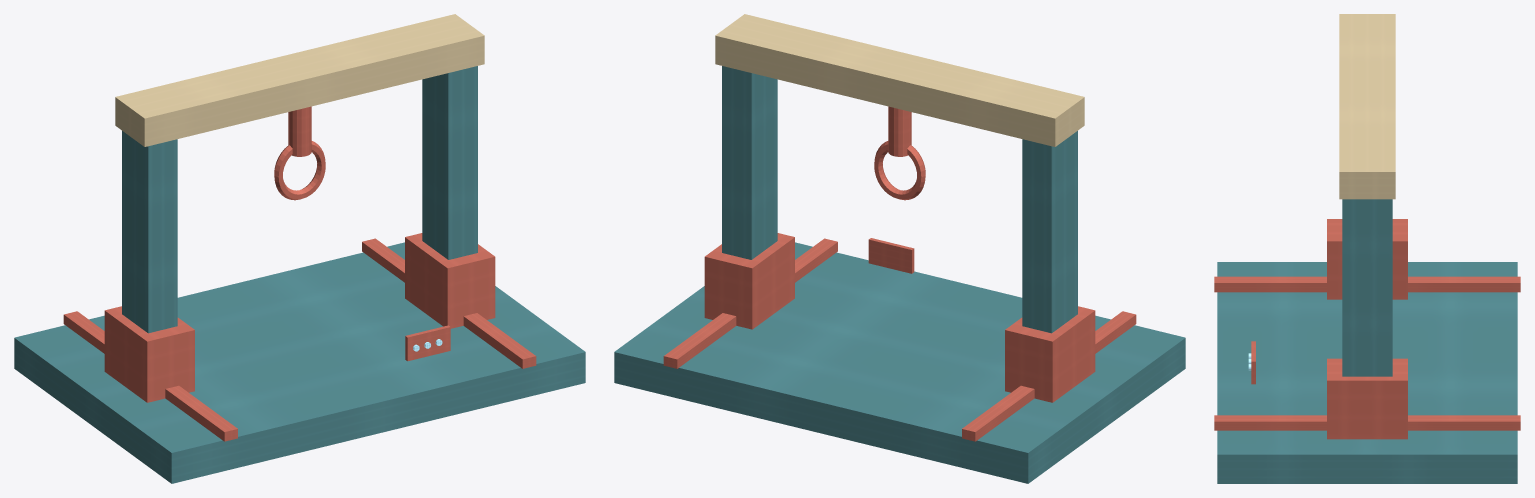
The model's file is atlas100-s072-a02.glb.
3 views of the same model, side by side, from view 1: azimuth 30°, elevation 25°; view 2: azimuth 150°, elevation 25°; view 3: azimuth 270°, elevation 25° (orthographic). The views are drawn at different scales.
Parts seen in each view (by area): view 1: atlas100-s072-a02:part-000, atlas100-s072-a02:part-007, atlas100-s072-a02:part-003, atlas100-s072-a02:part-005, atlas100-s072-a02:part-004, atlas100-s072-a02:part-006, atlas100-s072-a02:part-002, atlas100-s072-a02:part-001, atlas100-s072-a02:part-009, atlas100-s072-a02:part-010, atlas100-s072-a02:part-008; view 2: atlas100-s072-a02:part-000, atlas100-s072-a02:part-007, atlas100-s072-a02:part-003, atlas100-s072-a02:part-005, atlas100-s072-a02:part-004, atlas100-s072-a02:part-006, atlas100-s072-a02:part-002, atlas100-s072-a02:part-001, atlas100-s072-a02:part-009, atlas100-s072-a02:part-010, atlas100-s072-a02:part-008; view 3: atlas100-s072-a02:part-000, atlas100-s072-a02:part-007, atlas100-s072-a02:part-005, atlas100-s072-a02:part-006, atlas100-s072-a02:part-001, atlas100-s072-a02:part-002, atlas100-s072-a02:part-004.
Part boxes in pixels (x1,y1,x2,y2): atlas100-s072-a02:part-000: [14, 242, 585, 483]; atlas100-s072-a02:part-007: [115, 14, 484, 146]; atlas100-s072-a02:part-003: [122, 131, 177, 333]; atlas100-s072-a02:part-005: [422, 66, 477, 259]; atlas100-s072-a02:part-004: [104, 306, 194, 402]; atlas100-s072-a02:part-006: [405, 233, 495, 328]; atlas100-s072-a02:part-002: [362, 238, 536, 368]; atlas100-s072-a02:part-001: [63, 311, 237, 441]; atlas100-s072-a02:part-009: [274, 141, 325, 200]; atlas100-s072-a02:part-010: [405, 325, 450, 361]; atlas100-s072-a02:part-008: [288, 106, 311, 156]; atlas100-s072-a02:part-000: [614, 242, 1185, 483]; atlas100-s072-a02:part-007: [715, 14, 1084, 146]; atlas100-s072-a02:part-003: [1022, 131, 1077, 333]; atlas100-s072-a02:part-005: [722, 66, 777, 259]; atlas100-s072-a02:part-004: [1005, 306, 1095, 402]; atlas100-s072-a02:part-006: [704, 233, 794, 329]; atlas100-s072-a02:part-002: [663, 238, 837, 368]; atlas100-s072-a02:part-001: [962, 311, 1136, 441]; atlas100-s072-a02:part-009: [874, 141, 925, 200]; atlas100-s072-a02:part-010: [868, 238, 914, 273]; atlas100-s072-a02:part-008: [888, 106, 911, 156]; atlas100-s072-a02:part-000: [1217, 262, 1517, 483]; atlas100-s072-a02:part-007: [1339, 14, 1395, 199]; atlas100-s072-a02:part-005: [1342, 199, 1392, 376]; atlas100-s072-a02:part-006: [1327, 358, 1407, 439]; atlas100-s072-a02:part-001: [1214, 276, 1520, 292]; atlas100-s072-a02:part-002: [1214, 415, 1520, 430]; atlas100-s072-a02:part-004: [1327, 219, 1407, 299].
Bounding box in the file's own units: 3.64 × 2.6 × 2.45.
4 materials, 4 textured.
